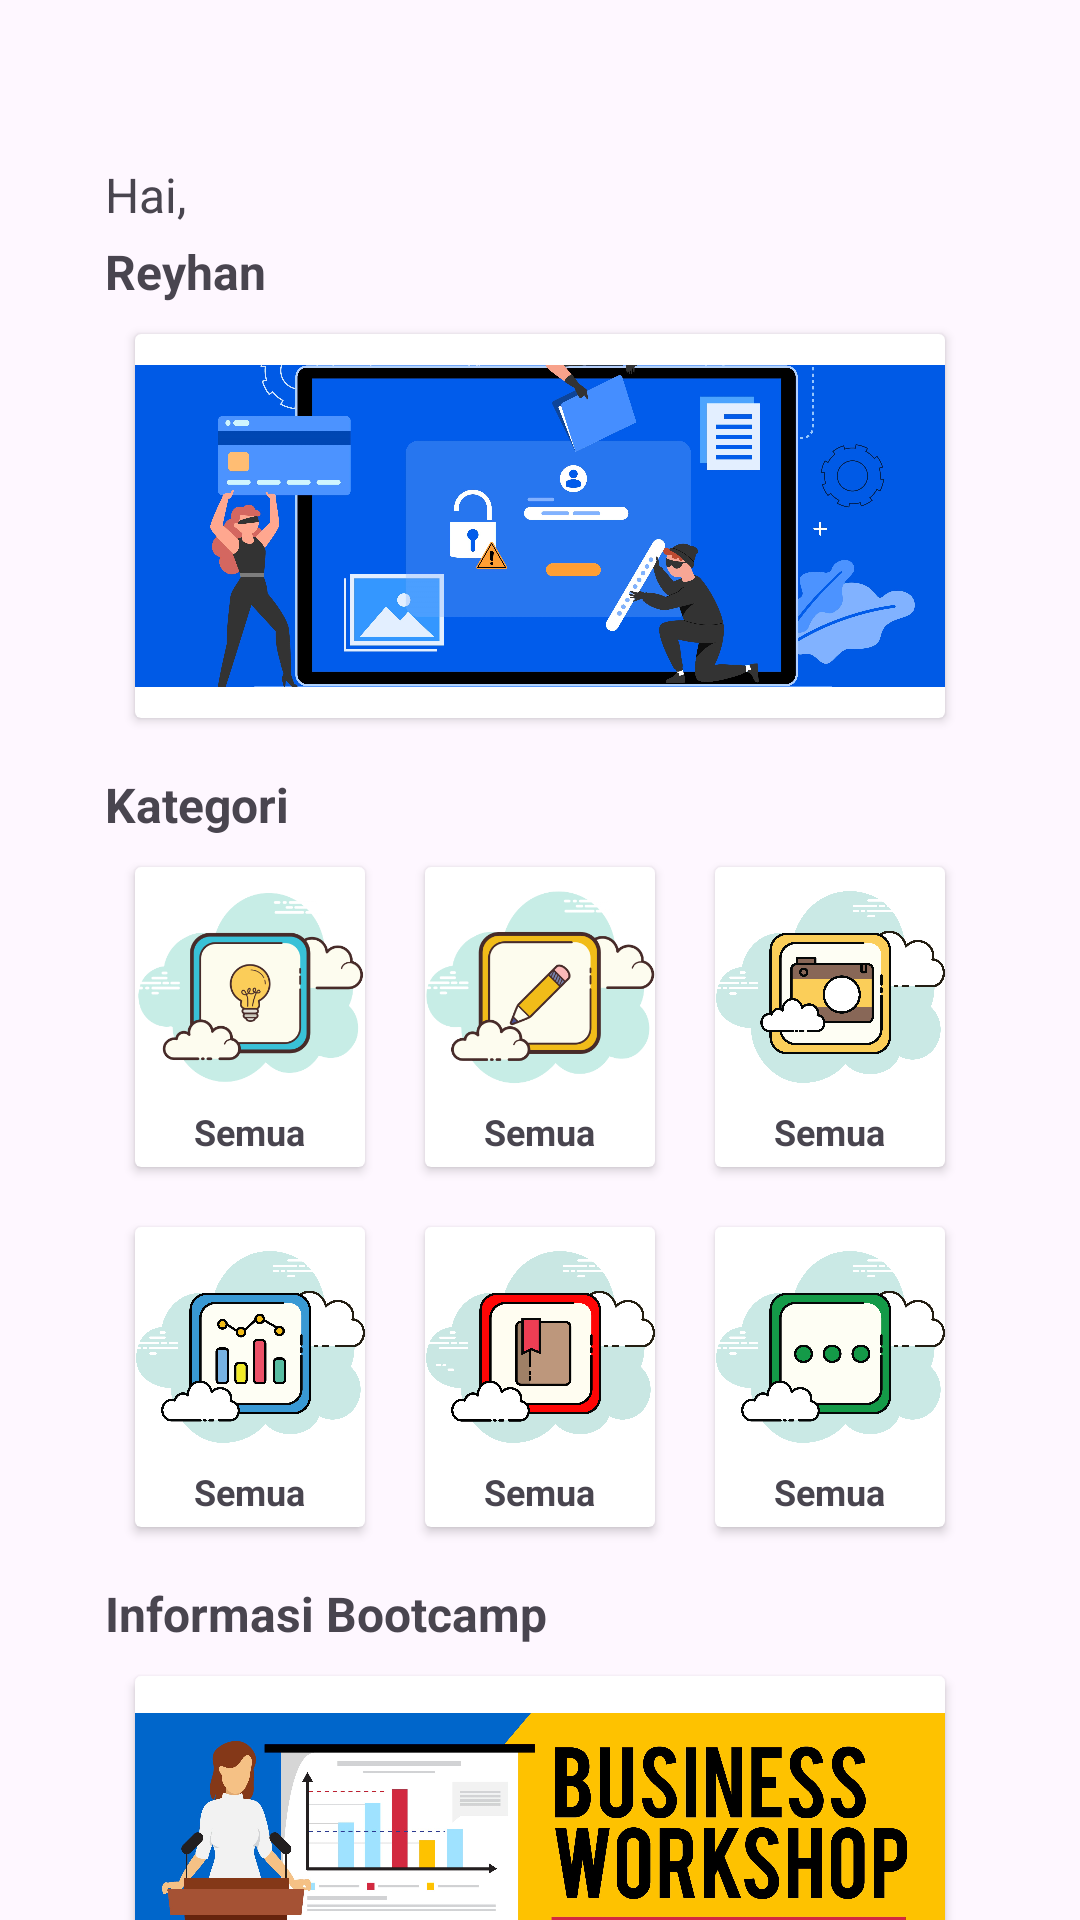

Point at icon controls on the screen. Image size 1080x1920, points as (x=x, y=y).
camera: (x=830, y=976)
more: (x=830, y=1347)
pendidikan: (x=540, y=1347)
stastistik: (x=250, y=1347)
